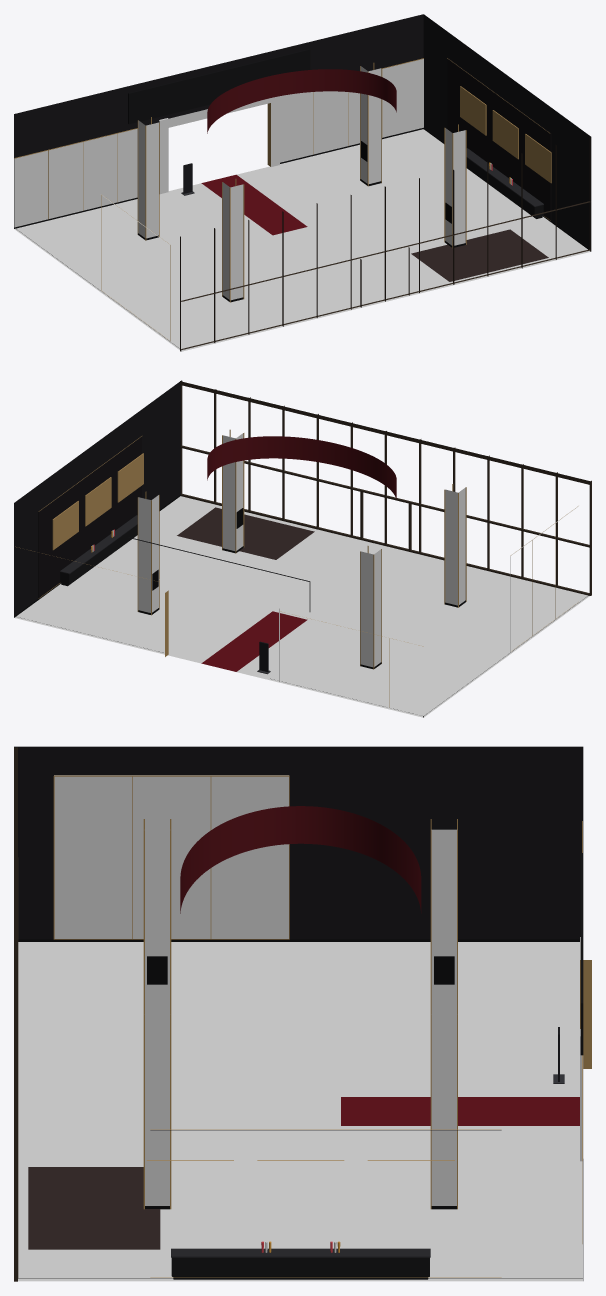
Rendered from lobby.glb.
3 views of the same model, one above another, from view 1: azimuth 30°, elevation 25°; view 2: azimuth 150°, elevation 25°; view 3: azimuth 270°, elevation 25° (orthographic). The views are drawn at different scales.
Visible parts, largest first — view 1: lobby; view 2: lobby; view 3: lobby.
Boxes of the visible parts, <box> form: lobby: <box>14,14,591,351</box>; lobby: <box>14,380,591,717</box>; lobby: <box>14,746,591,1281</box>.
Size of the model in its own units: 28.08 by 8.95 by 20.15.
